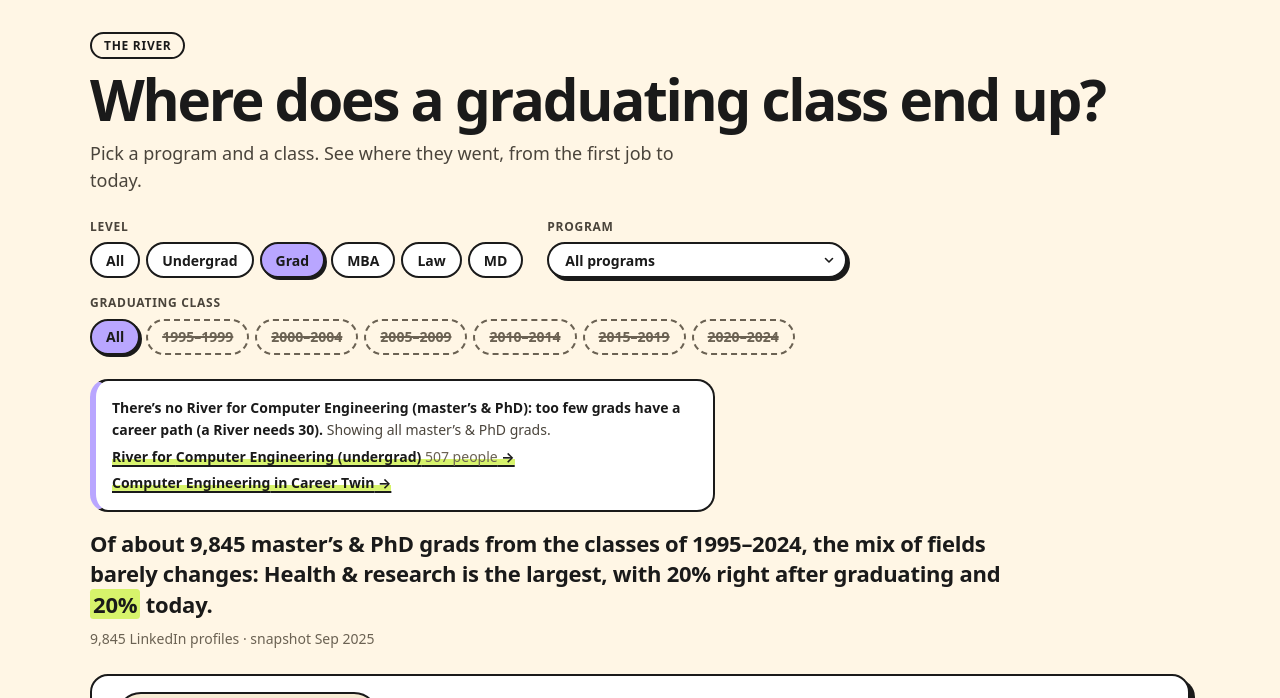
Test: RiverView › says so when the URL names a program without a River, with links to where it exists
Expected: the dropdown labelled "Program" holds "All programs", [547,242,847,278]
Click the link "River for Computer Engineering (undergrad) 507 people".
click(313, 457)  # box [112,447,515,466]
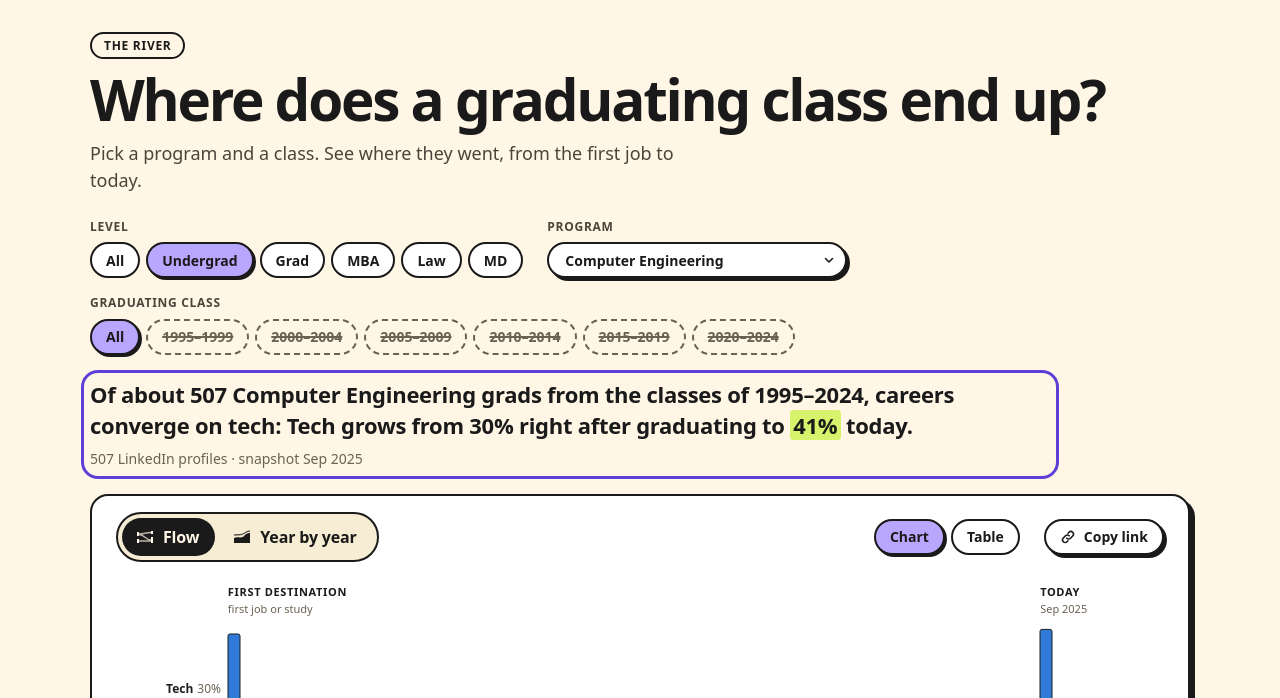
Expected: the element with class "river-summary__text" shows "Of about 507 Computer Engineering grads", [90,379,954,440]
Expected: the message with class "river-notice" is gone
